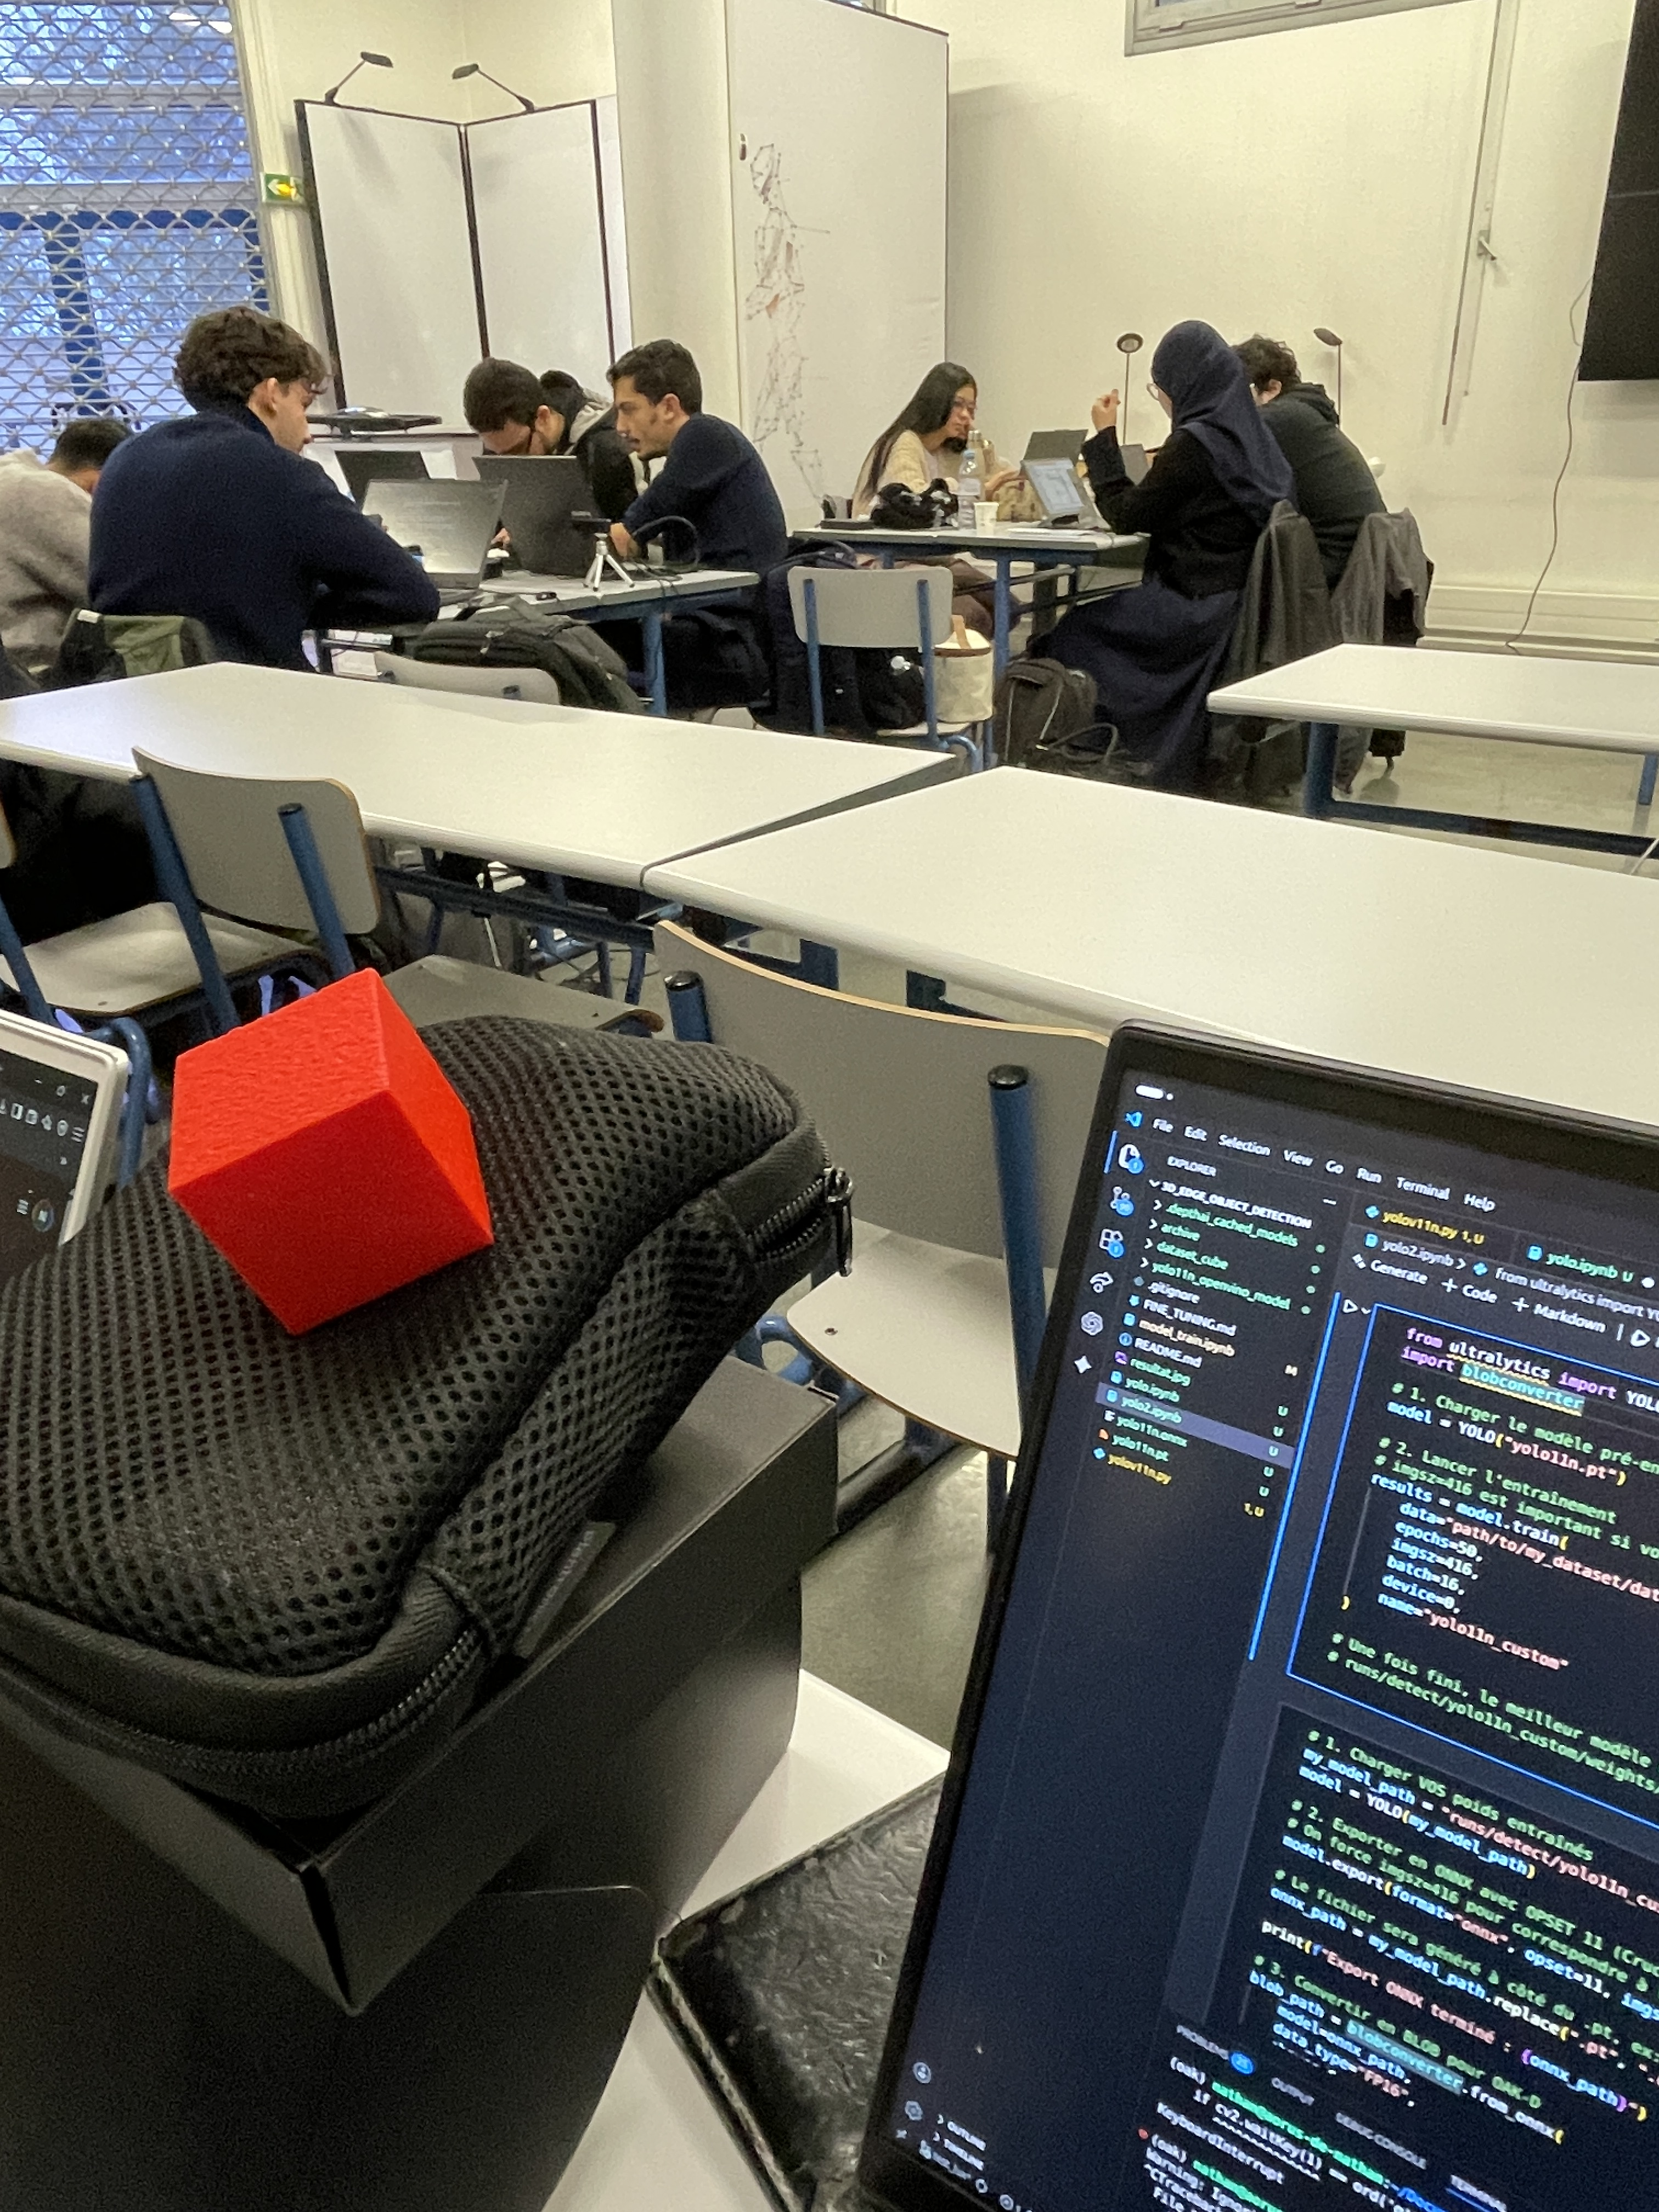red_cube: (162, 963, 500, 1338)
